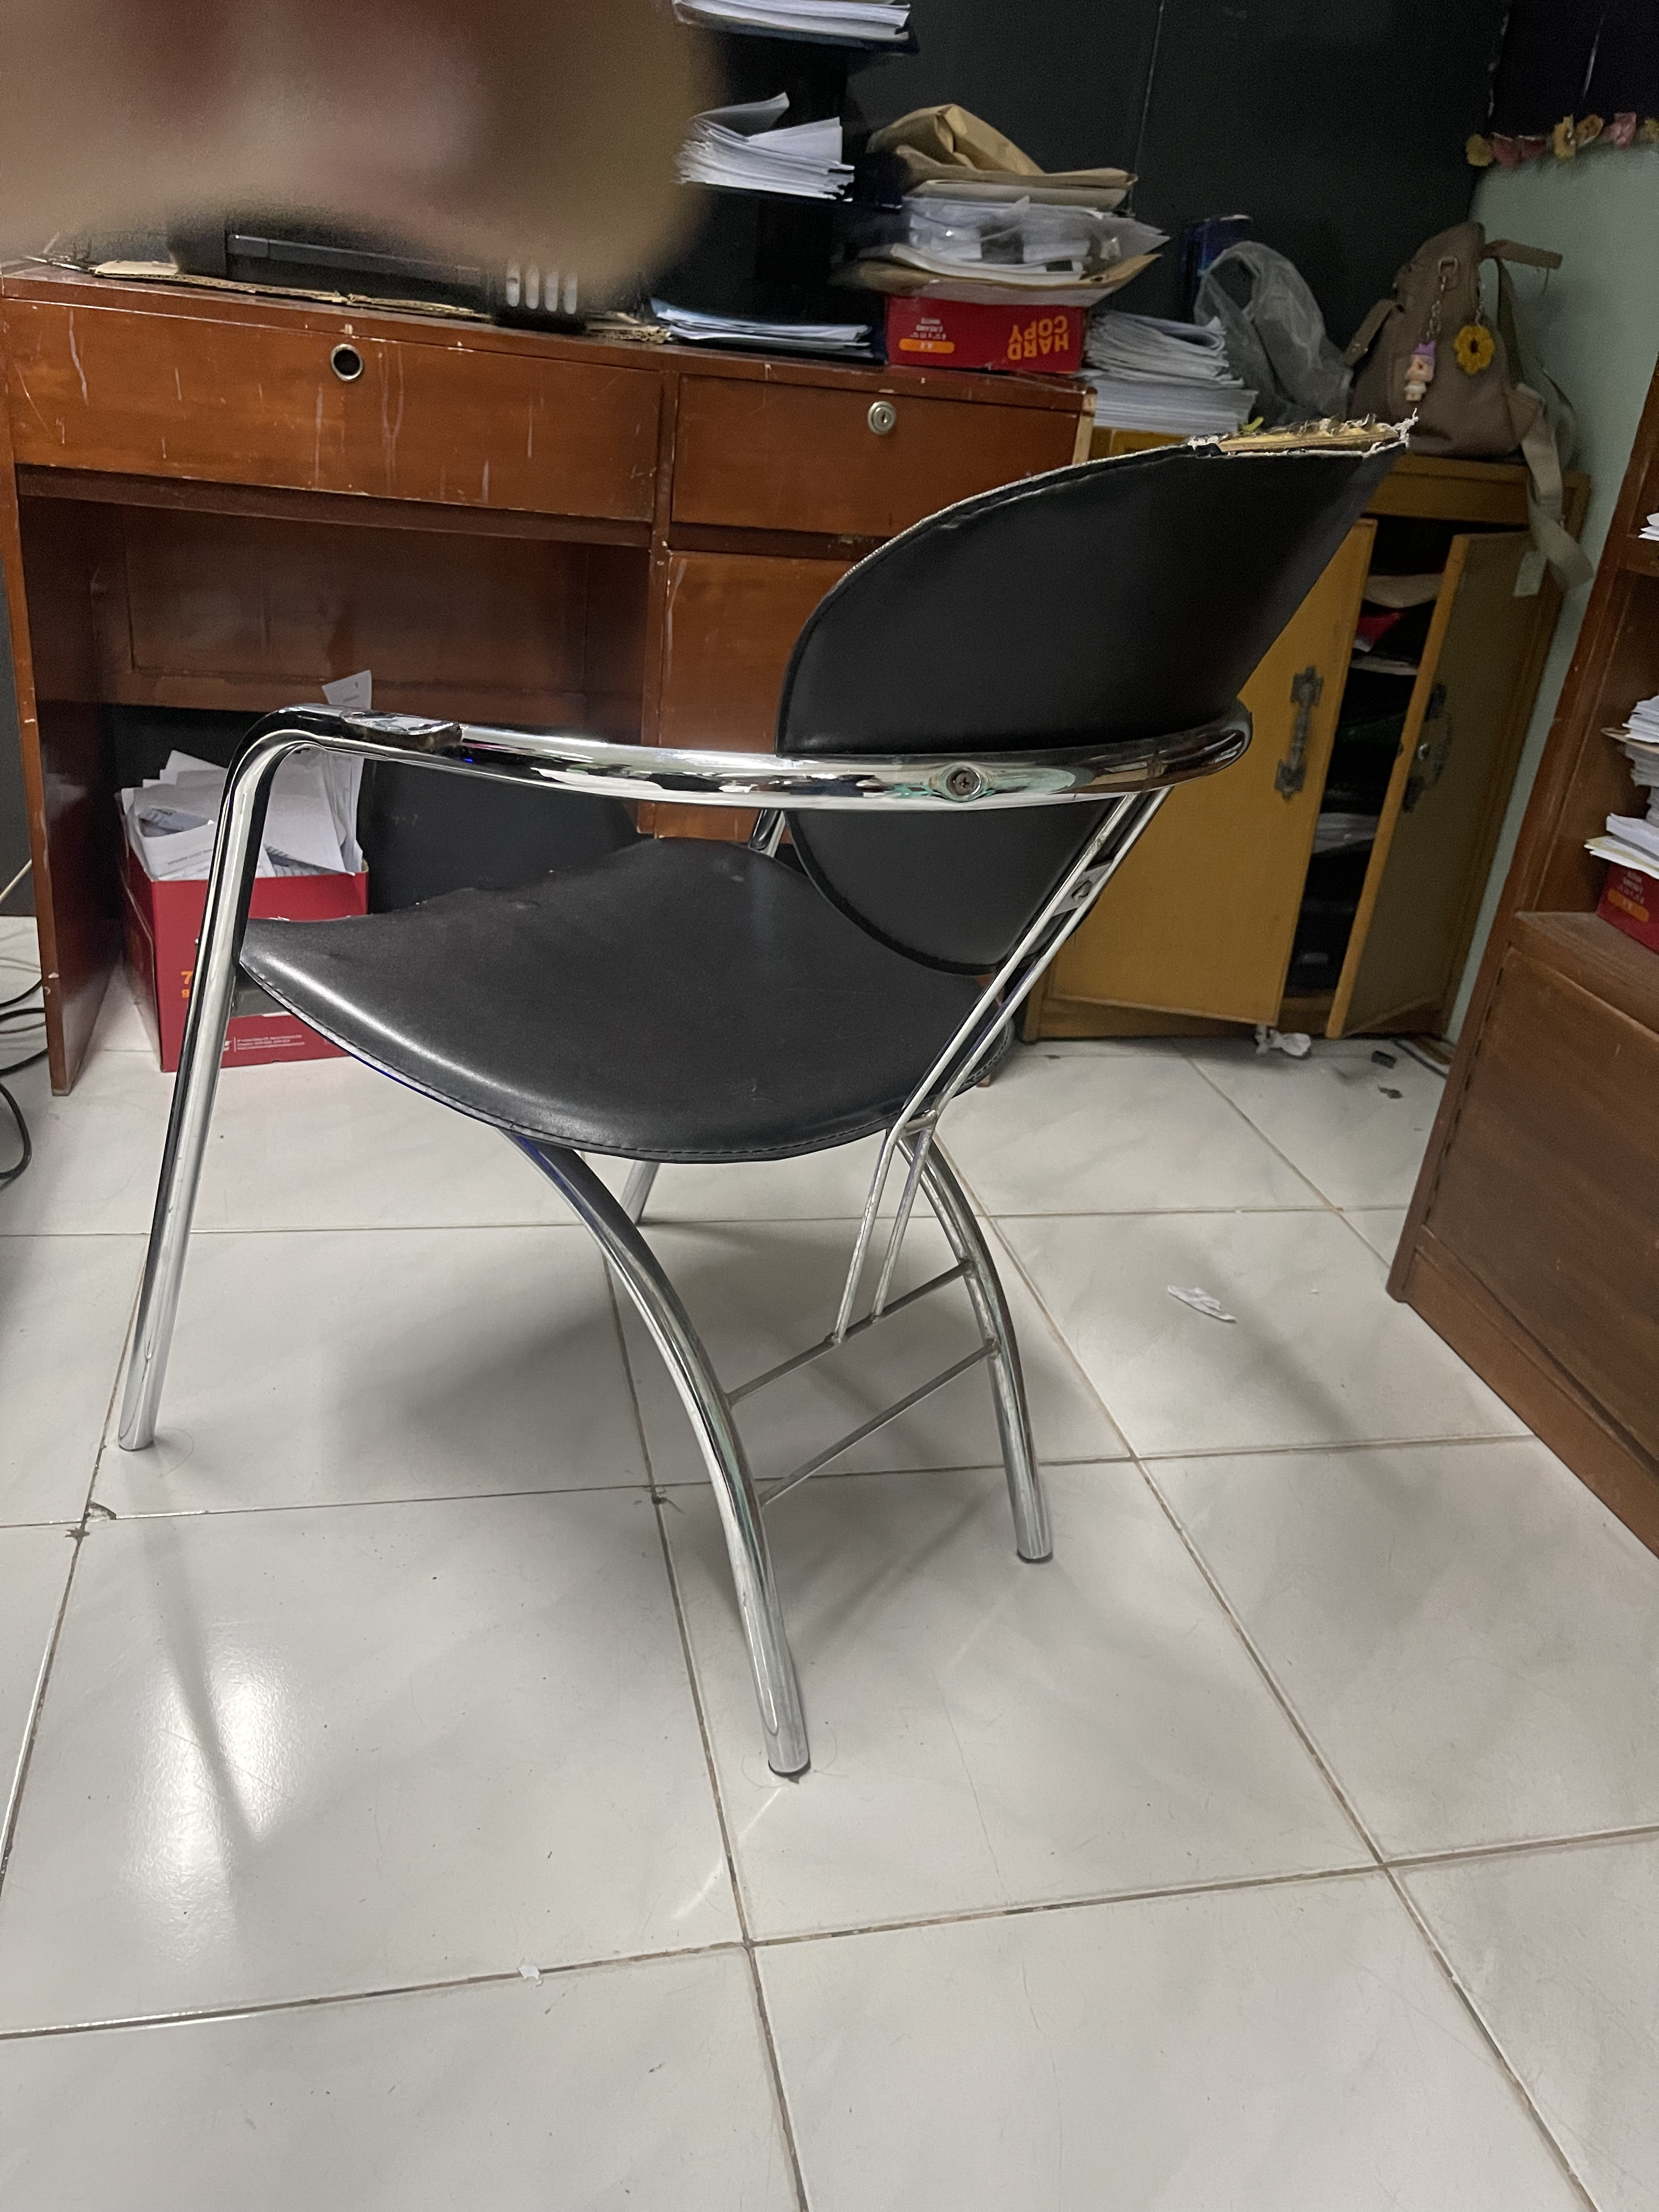chair1: (96, 397, 1419, 1778)
